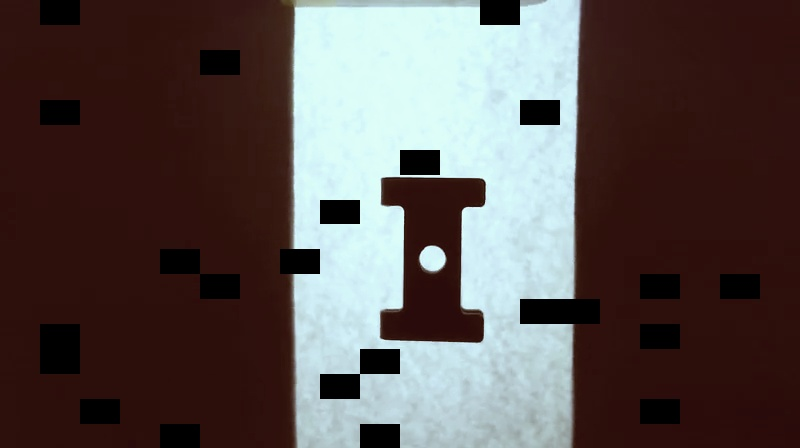O002: (375, 175, 491, 347)
